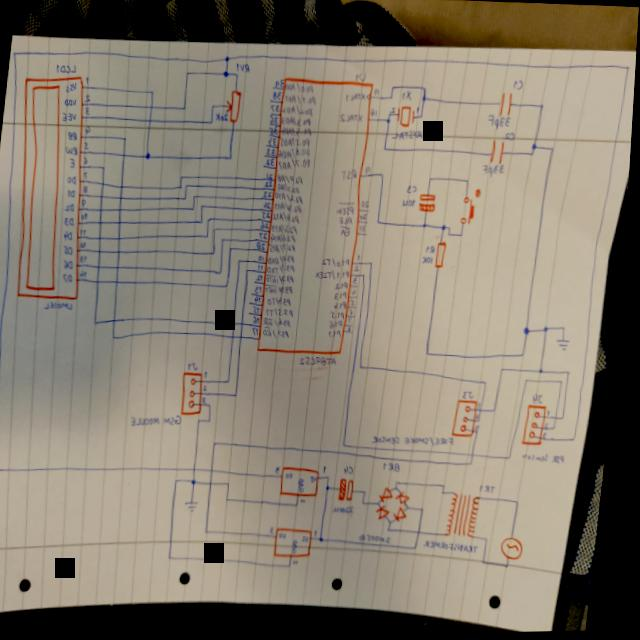capacitor: (343, 478, 361, 503), (499, 92, 515, 120), (491, 139, 507, 167), (420, 194, 440, 215)
crossover: (98, 264, 107, 272), (99, 234, 108, 242), (99, 219, 108, 227), (119, 194, 128, 202), (97, 278, 105, 286), (99, 248, 107, 256), (118, 248, 126, 256), (119, 235, 127, 243), (118, 219, 126, 227), (119, 206, 127, 214), (100, 206, 108, 214), (121, 183, 129, 191), (102, 180, 110, 188), (100, 192, 108, 200), (122, 151, 130, 159), (148, 117, 156, 125), (149, 104, 157, 112), (118, 264, 125, 272), (242, 334, 249, 341), (115, 317, 121, 325), (558, 416, 564, 424), (213, 481, 219, 488), (215, 468, 221, 475), (234, 335, 240, 342), (117, 278, 123, 285), (475, 453, 481, 460), (197, 466, 203, 472), (422, 530, 428, 536), (244, 321, 249, 327), (236, 322, 241, 328), (483, 409, 488, 415)
diode: (399, 507, 415, 524), (385, 488, 401, 505), (381, 505, 397, 522), (401, 490, 417, 507)
ground: (559, 340, 575, 354), (190, 500, 206, 514)
junction: (526, 328, 536, 338), (145, 152, 154, 162), (223, 70, 231, 78), (196, 478, 203, 487), (225, 55, 232, 63), (378, 219, 385, 227), (210, 528, 217, 536), (381, 173, 388, 181), (0, 466, 7, 474), (230, 497, 237, 505), (542, 369, 549, 377), (422, 96, 429, 104), (102, 164, 109, 172), (565, 416, 572, 424), (576, 437, 582, 446), (511, 455, 518, 462), (12, 50, 19, 57), (547, 327, 553, 335), (217, 441, 223, 449), (467, 179, 473, 187), (540, 104, 546, 112), (429, 351, 435, 359), (552, 147, 558, 155), (384, 146, 390, 154), (426, 507, 432, 515), (97, 319, 103, 327), (347, 443, 353, 451), (115, 334, 121, 342), (533, 144, 539, 152), (325, 536, 331, 544), (180, 477, 186, 485), (626, 66, 632, 74), (419, 545, 425, 553), (504, 368, 510, 376), (570, 371, 576, 379), (524, 353, 530, 360), (425, 223, 431, 230), (229, 155, 235, 162), (231, 481, 237, 488), (230, 379, 236, 386), (420, 115, 426, 122), (330, 486, 337, 492), (528, 379, 535, 385), (238, 393, 243, 401), (124, 136, 130, 142), (186, 71, 192, 77), (487, 560, 493, 566), (174, 555, 180, 561), (181, 175, 187, 181), (151, 90, 157, 96), (387, 119, 393, 125), (423, 87, 429, 93), (444, 226, 449, 233), (497, 408, 502, 415), (368, 489, 373, 496), (487, 382, 492, 389), (372, 262, 377, 268), (430, 177, 435, 183), (491, 537, 496, 543), (522, 501, 527, 507), (213, 418, 218, 424), (214, 250, 219, 256), (565, 327, 570, 333), (193, 207, 198, 213), (474, 462, 479, 468), (367, 501, 372, 507), (185, 196, 190, 202), (532, 154, 537, 160), (202, 419, 207, 425), (294, 564, 299, 570), (557, 427, 562, 433), (563, 381, 568, 387), (512, 565, 517, 571), (203, 204, 207, 211), (447, 485, 452, 490), (400, 488, 405, 493), (395, 521, 400, 526), (412, 506, 417, 511), (393, 528, 398, 533), (184, 106, 188, 112), (462, 233, 466, 239), (213, 403, 217, 409), (364, 365, 368, 371), (393, 86, 397, 92), (216, 227, 220, 233), (225, 238, 229, 244), (222, 270, 226, 276), (229, 283, 233, 289), (232, 247, 236, 253), (241, 259, 245, 265), (249, 268, 253, 274), (210, 217, 214, 223), (208, 234, 212, 240), (203, 220, 207, 226), (195, 195, 199, 201), (187, 184, 191, 190), (181, 185, 185, 191), (401, 481, 405, 487), (365, 274, 369, 280), (236, 73, 240, 79), (391, 97, 395, 102), (332, 476, 336, 481), (301, 503, 305, 508), (212, 105, 216, 110), (212, 121, 216, 126), (382, 502, 386, 507), (448, 491, 452, 496), (480, 431, 484, 435), (482, 420, 486, 424), (389, 114, 392, 118), (451, 234, 454, 238), (451, 228, 454, 232)
resistor: (225, 90, 245, 125), (438, 243, 450, 270)
source: (505, 538, 532, 563)
switch: (462, 197, 480, 228)
terminal: (183, 371, 211, 417), (527, 404, 553, 448), (456, 400, 483, 439)
text: (378, 435, 460, 450), (134, 412, 188, 431), (430, 540, 488, 557), (280, 157, 314, 174), (392, 129, 430, 144), (302, 355, 342, 369), (282, 104, 316, 120), (526, 454, 571, 466), (286, 93, 319, 108), (280, 148, 313, 162), (488, 115, 513, 133), (276, 192, 307, 206), (286, 82, 317, 96), (274, 212, 304, 226), (276, 201, 306, 215), (281, 137, 313, 150), (325, 256, 354, 270), (318, 270, 349, 283), (282, 127, 315, 139), (270, 264, 300, 277), (283, 116, 313, 129), (483, 164, 507, 180), (366, 534, 398, 546), (47, 300, 78, 312), (340, 111, 366, 125), (267, 327, 295, 340), (272, 233, 300, 246), (279, 174, 307, 187), (267, 317, 297, 329), (270, 274, 299, 286), (279, 183, 304, 196), (274, 224, 301, 236), (269, 285, 298, 296), (270, 255, 299, 266), (270, 308, 298, 319), (57, 62, 80, 75), (272, 244, 299, 255), (346, 92, 368, 105), (339, 202, 358, 217), (271, 297, 296, 308), (387, 462, 407, 475), (339, 505, 361, 516), (343, 169, 360, 182), (485, 485, 503, 496), (536, 393, 550, 407), (62, 112, 79, 123), (66, 81, 80, 94), (65, 229, 78, 243), (236, 63, 252, 74), (216, 112, 232, 123), (404, 198, 420, 209), (332, 320, 348, 331), (337, 281, 353, 292), (66, 146, 82, 157), (402, 91, 415, 104), (342, 226, 355, 239), (67, 130, 81, 142), (302, 478, 314, 492), (341, 217, 357, 227), (333, 312, 349, 322), (505, 132, 518, 144), (513, 80, 525, 93), (192, 361, 205, 373), (66, 216, 79, 228), (66, 258, 78, 271), (66, 272, 78, 285), (332, 330, 346, 341), (355, 73, 369, 84), (67, 202, 79, 214), (66, 244, 78, 256), (275, 79, 288, 90), (408, 185, 421, 196), (338, 292, 352, 302), (284, 531, 296, 542), (273, 91, 285, 102), (349, 466, 361, 477), (68, 188, 79, 200), (270, 115, 282, 126), (269, 126, 281, 137), (262, 221, 274, 232), (258, 241, 270, 252), (338, 302, 351, 312), (65, 97, 78, 107), (298, 539, 306, 555), (69, 175, 80, 186), (425, 257, 437, 267), (269, 137, 280, 147), (428, 246, 439, 256), (467, 392, 479, 401), (85, 124, 94, 136), (71, 157, 79, 170), (363, 201, 373, 211), (82, 269, 92, 279), (82, 254, 92, 264), (272, 104, 282, 114), (371, 109, 380, 119), (268, 148, 278, 157), (268, 158, 278, 167), (264, 211, 274, 220), (366, 167, 374, 177), (207, 370, 215, 380), (290, 472, 300, 480), (280, 466, 288, 476), (84, 141, 92, 151), (85, 94, 93, 104), (82, 198, 90, 208), (361, 226, 370, 234), (81, 228, 90, 236), (83, 212, 92, 220), (268, 173, 277, 181), (259, 274, 268, 282), (258, 286, 267, 294), (256, 328, 264, 337), (375, 89, 382, 99), (362, 214, 370, 222), (352, 299, 360, 307), (308, 536, 316, 544), (82, 241, 90, 249), (266, 202, 274, 210), (263, 232, 271, 240), (258, 296, 266, 304), (257, 306, 265, 314), (276, 526, 283, 535), (267, 181, 276, 188), (266, 191, 275, 198), (257, 316, 264, 325), (316, 476, 323, 484), (262, 255, 269, 263), (261, 264, 268, 272), (550, 411, 557, 419), (547, 433, 554, 441), (86, 107, 92, 116), (328, 465, 333, 475), (85, 186, 91, 194), (356, 278, 362, 286), (207, 385, 213, 393), (359, 255, 365, 263), (355, 289, 361, 297), (207, 397, 213, 405), (85, 172, 91, 180), (85, 157, 91, 165), (480, 425, 486, 433), (549, 423, 555, 431), (86, 76, 91, 85), (299, 560, 306, 566), (357, 266, 363, 273), (352, 310, 358, 317), (351, 318, 357, 325), (306, 498, 313, 504), (417, 107, 422, 115), (320, 529, 325, 537), (391, 108, 397, 114), (482, 403, 486, 411), (352, 327, 356, 333), (480, 415, 484, 420)
transformer: (452, 492, 487, 541)
